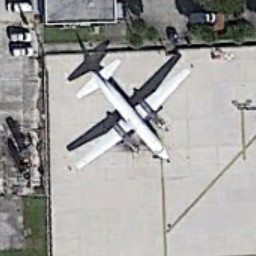Airplane: (68, 50, 201, 199)
